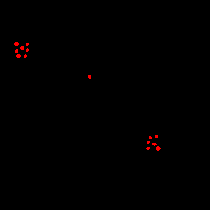Target: (156, 146, 161, 151), (14, 42, 19, 46), (16, 54, 21, 58), (20, 46, 24, 50), (152, 143, 157, 146), (26, 48, 29, 52), (15, 49, 18, 53), (24, 54, 27, 58), (88, 75, 91, 79), (146, 147, 150, 150), (26, 43, 29, 46), (155, 135, 158, 138), (149, 136, 152, 139), (147, 141, 150, 144)
